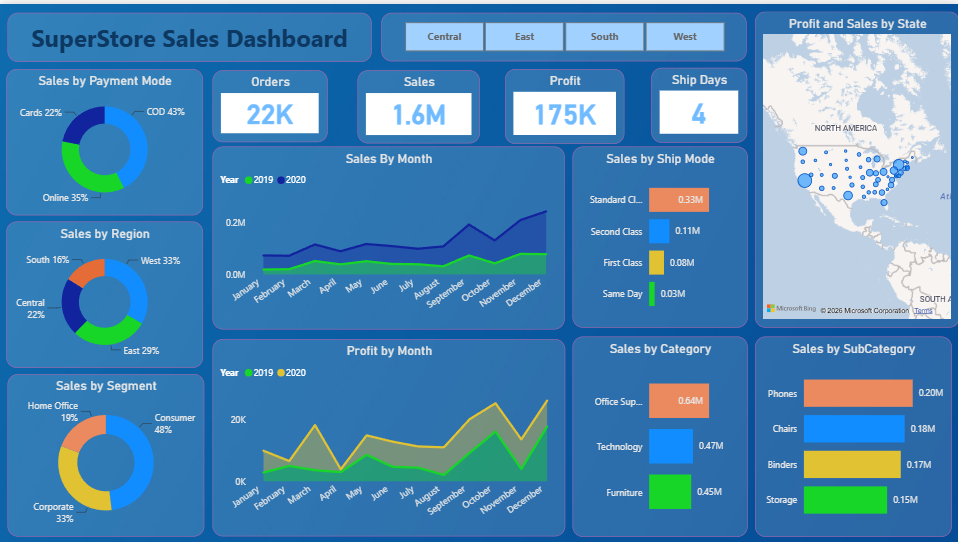

Layout of this report page (visuals, bound fields, positions):
{"tool":"powerbi","page":{"name":"Page 1","canvas":[1280,720],"ordinal":0},"visuals":[{"type":"clusteredBarChart","title":"Sales by Category","fields":{"Category":["Sheet1.Category"],"Y":["Sum(Sheet1.Sales)"]},"box":[763,443.2,233.3,267.6],"z":0},{"type":"clusteredBarChart","title":"Sales by SubCategory","fields":{"Category":["Sheet1.Sub-Category"],"Y":["Sum(Sheet1.Sales)"]},"box":[1007.2,443.2,262.1,267.6],"z":1000},{"type":"clusteredBarChart","title":"Sales by Ship Mode","fields":{"Category":["Sheet1.Ship Mode"],"Y":["Sum(Sheet1.Sales)"]},"box":[763,189.4,233.3,241.5],"z":2000},{"type":"stackedAreaChart","title":"Sales By Month","fields":{"Y":["Sum(Sheet1.Sales)"],"Category":["Sheet1.Order Date.Variation.Date Hierarchy.Month","Sheet1.Order Date.Variation.Date Hierarchy.Day"],"Series":["Sheet1.Order Date.Variation.Date Hierarchy.Year"]},"box":[284,189.4,469.3,244.3],"z":3000},{"type":"stackedAreaChart","title":"Profit by Month","fields":{"Category":["Sheet1.Order Date.Variation.Date Hierarchy.Month","Sheet1.Order Date.Variation.Date Hierarchy.Day"],"Series":["Sheet1.Order Date.Variation.Date Hierarchy.Year"],"Y":["Sum(Sheet1.Profit)"]},"box":[282.7,447.3,470.7,263.5],"z":4000},{"type":"map","title":"Profit and Sales by State","fields":{"Category":["Sheet1.State"],"Size":["Sum(Sheet1.Sales)"]},"box":[1007.2,9.6,273.1,421.3],"z":5000},{"type":"donutChart","title":"Sales by Segment","fields":{"Category":["Sheet1.Segment"],"Y":["Sum(Sheet1.Sales)"]},"box":[9.6,494,262.1,216.8],"z":6000},{"type":"donutChart","title":"Sales by Payment Mode","fields":{"Category":["Sheet1.Payment Mode"],"Y":["Sum(Sheet1.Sales)"]},"box":[8.2,86.4,262.1,194.9],"z":7000},{"type":"slicer","fields":{"Values":["Sheet1.Region"]},"box":[509.1,11,487.1,64.5],"z":8000},{"type":"textbox","box":[9.6,11,485.8,65.9],"z":9000},{"type":"cardVisual","title":"Sales","fields":{"Data":["Sum(Sheet1.Sales)"]},"box":[476.2,87.8,163.3,97.4],"z":10000},{"type":"cardVisual","title":"Orders","fields":{"Data":["Sum(Sheet1.Quantity)"]},"box":[284,87.8,153.7,96.1],"z":11000},{"type":"cardVisual","title":"Profit","fields":{"Data":["Sum(Sheet1.Profit)"]},"box":[673.8,86.4,159.2,100.2],"z":12000},{"type":"donutChart","title":"Sales by Region","fields":{"Y":["Sum(SuperStore_Sales.Sales)"],"Category":["SuperStore_Sales.Region"]},"box":[8.2,289.5,262.1,194.9],"z":14000},{"type":"cardVisual","title":"Ship Days","fields":{"Data":["Avg(SuperStore_Sales.AvgDelivery)"]},"box":[868.6,85.1,127.6,100.2],"z":15000}]}

Visuals, with their boxes in screenshot pixels (x1, y1, x2, y2), scaled from the page's 1280x720 canvas onto the 958x542 screenshot:
"Sales by Category" clusteredBarChart: select_region(571, 334, 746, 535)
"Sales by SubCategory" clusteredBarChart: select_region(754, 334, 950, 535)
"Sales by Ship Mode" clusteredBarChart: select_region(571, 143, 746, 324)
"Sales By Month" stackedAreaChart: select_region(213, 143, 564, 326)
"Profit by Month" stackedAreaChart: select_region(212, 337, 564, 535)
"Profit and Sales by State" map: select_region(754, 7, 957, 324)
"Sales by Segment" donutChart: select_region(7, 372, 203, 535)
"Sales by Payment Mode" donutChart: select_region(6, 65, 202, 212)
slicer - Sheet1.Region: select_region(381, 8, 746, 57)
textbox: select_region(7, 8, 371, 58)
"Sales" cardVisual: select_region(356, 66, 479, 139)
"Orders" cardVisual: select_region(213, 66, 328, 138)
"Profit" cardVisual: select_region(504, 65, 623, 140)
"Sales by Region" donutChart: select_region(6, 218, 202, 365)
"Ship Days" cardVisual: select_region(650, 64, 746, 139)
